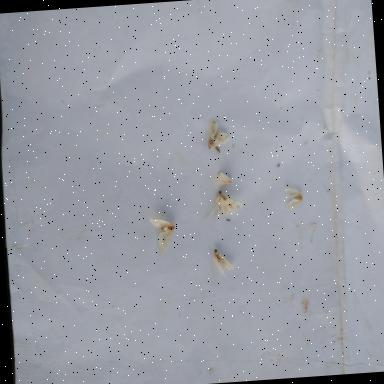abw: (207, 188, 244, 220), (149, 216, 177, 256), (203, 116, 231, 156), (211, 246, 234, 278)
